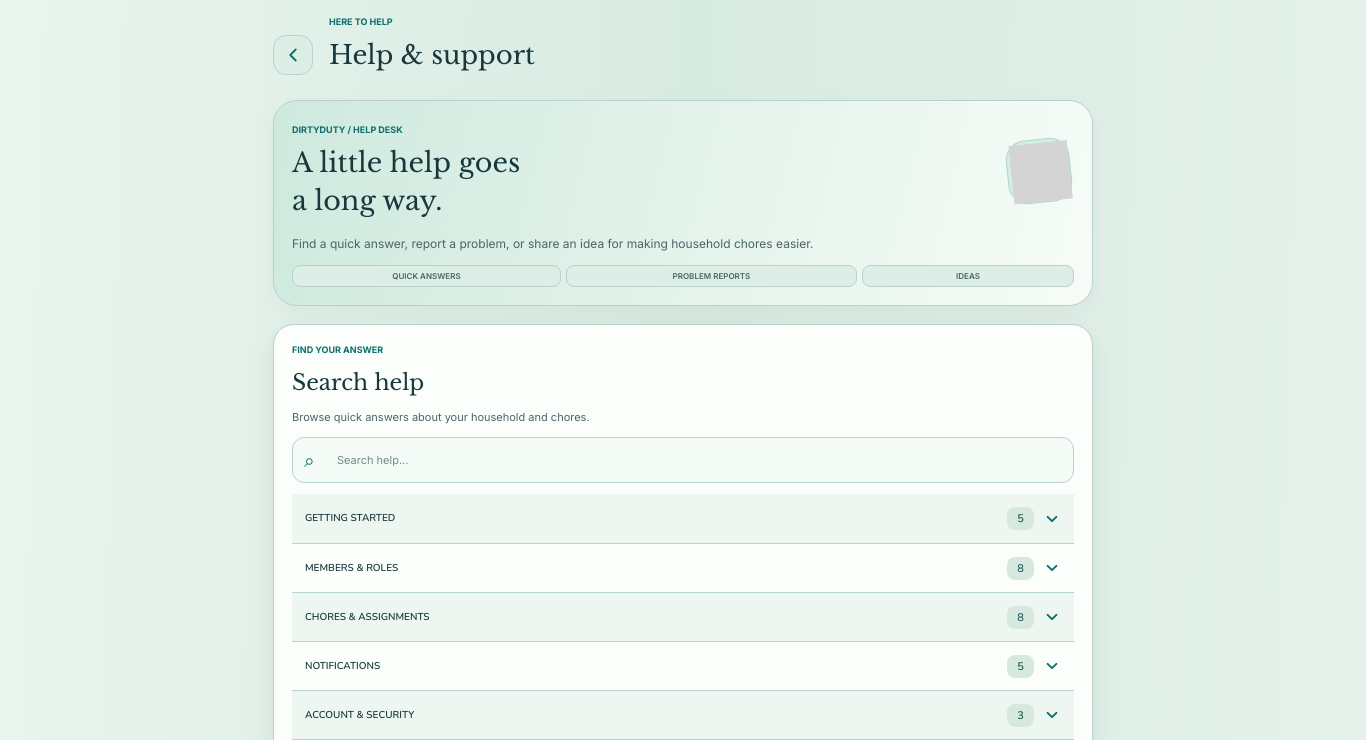
Test: help and support screen › automatically opens matching categories during search, hides others, and resets when cleared
In the search field named "Search help articles": (683, 460) 292,437 -> 1074,483, type "password"
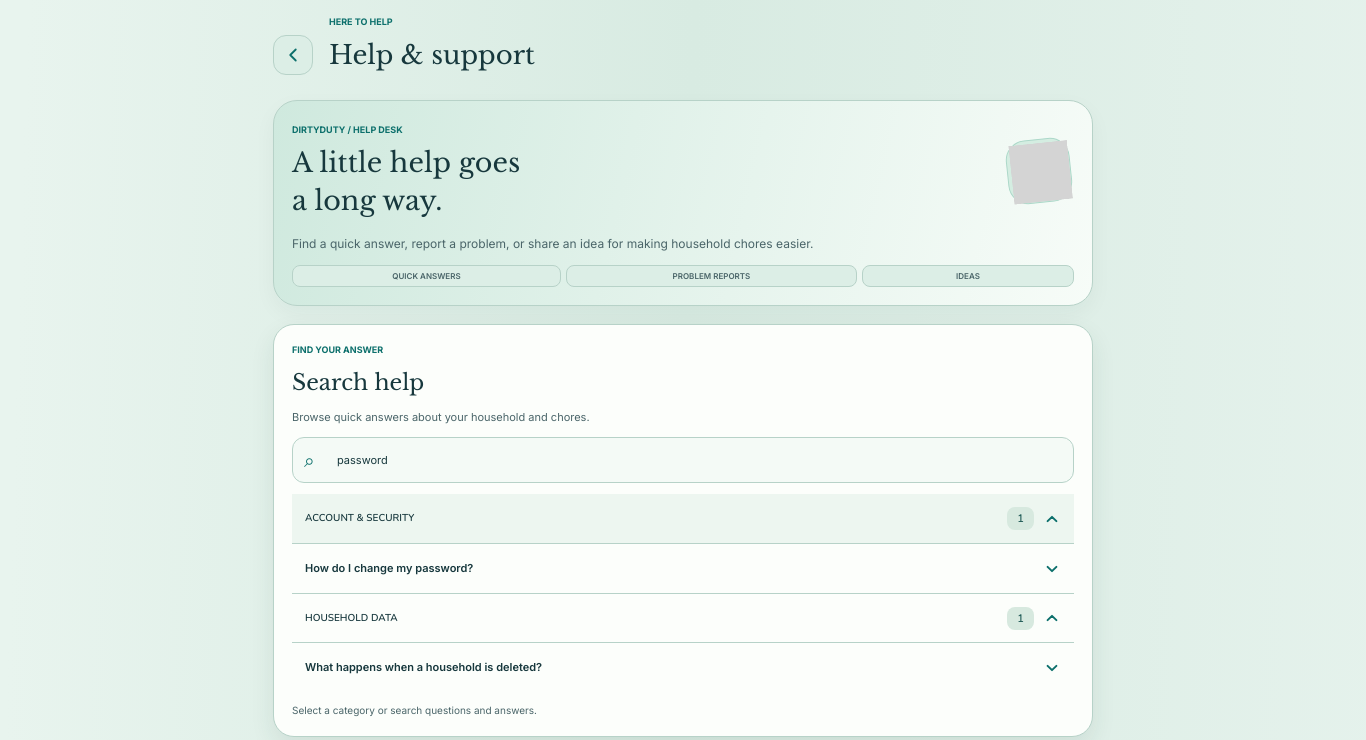
Expected: the button "Account & Security 1" is expanded, 292,494 -> 1074,543
Expected: the button "How do I change my password?" is shown, 292,544 -> 1074,593
Expected: the button "Getting Started" is gone
Replace the text in the search field named "Search help articles" with "ROUND-ROBIN": (683, 460) 292,437 -> 1074,483
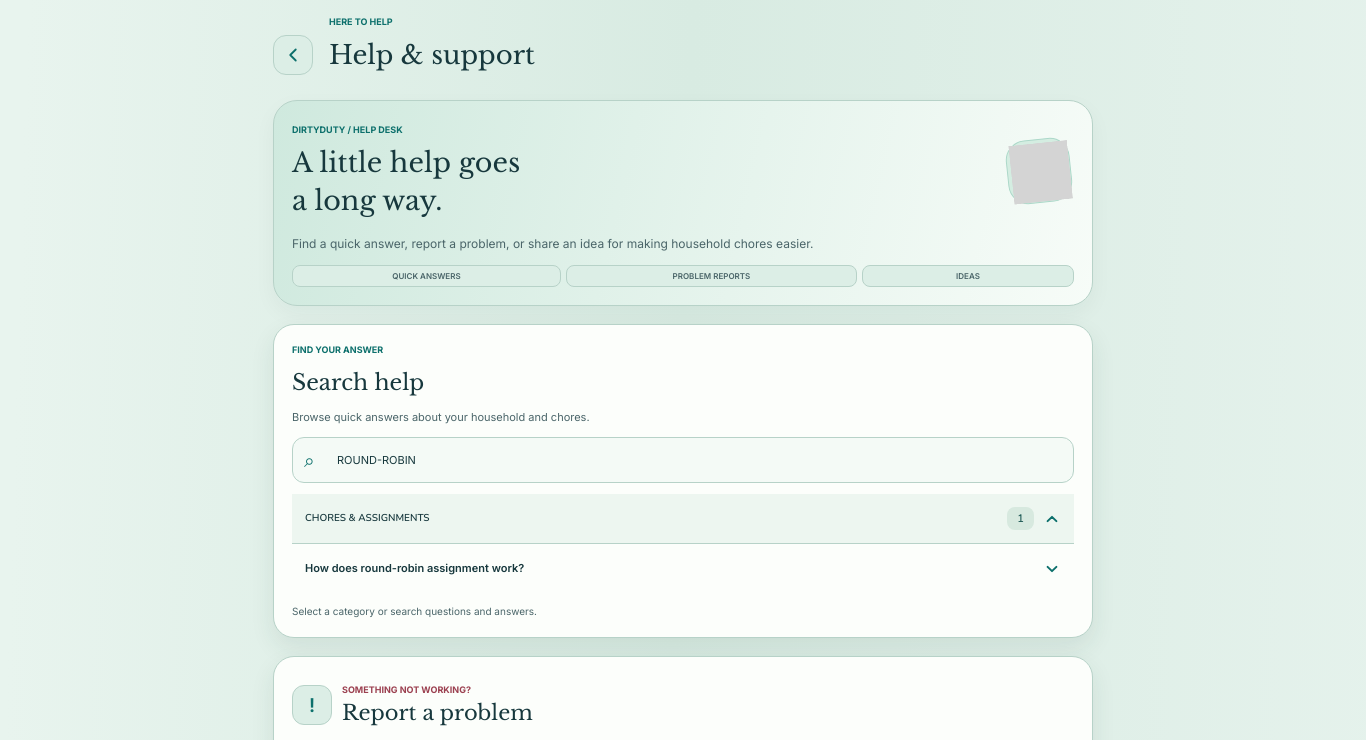
Expected: the button "How does round-robin assignment work?" is shown, 292,544 -> 1074,593
Expected: the button "Account & Security" is gone
Clear the search field named "Search help articles": (683, 460) 292,437 -> 1074,483
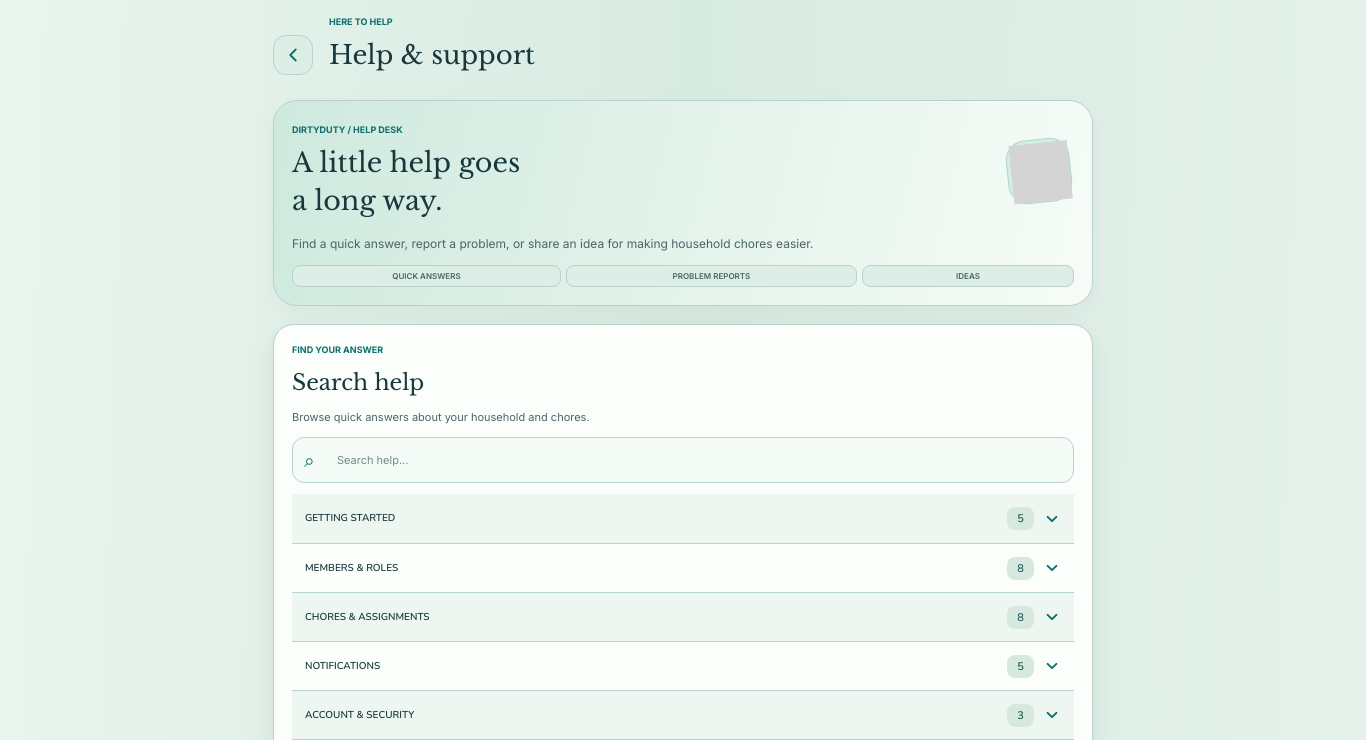
Expected: the button "How do I change my password?" is not shown
Expected: the button "Chores & Assignments 8" is collapsed, 292,592 -> 1074,641
In the search field named "Search help articles": (683, 460) 292,437 -> 1074,483, type "nothing matches this"
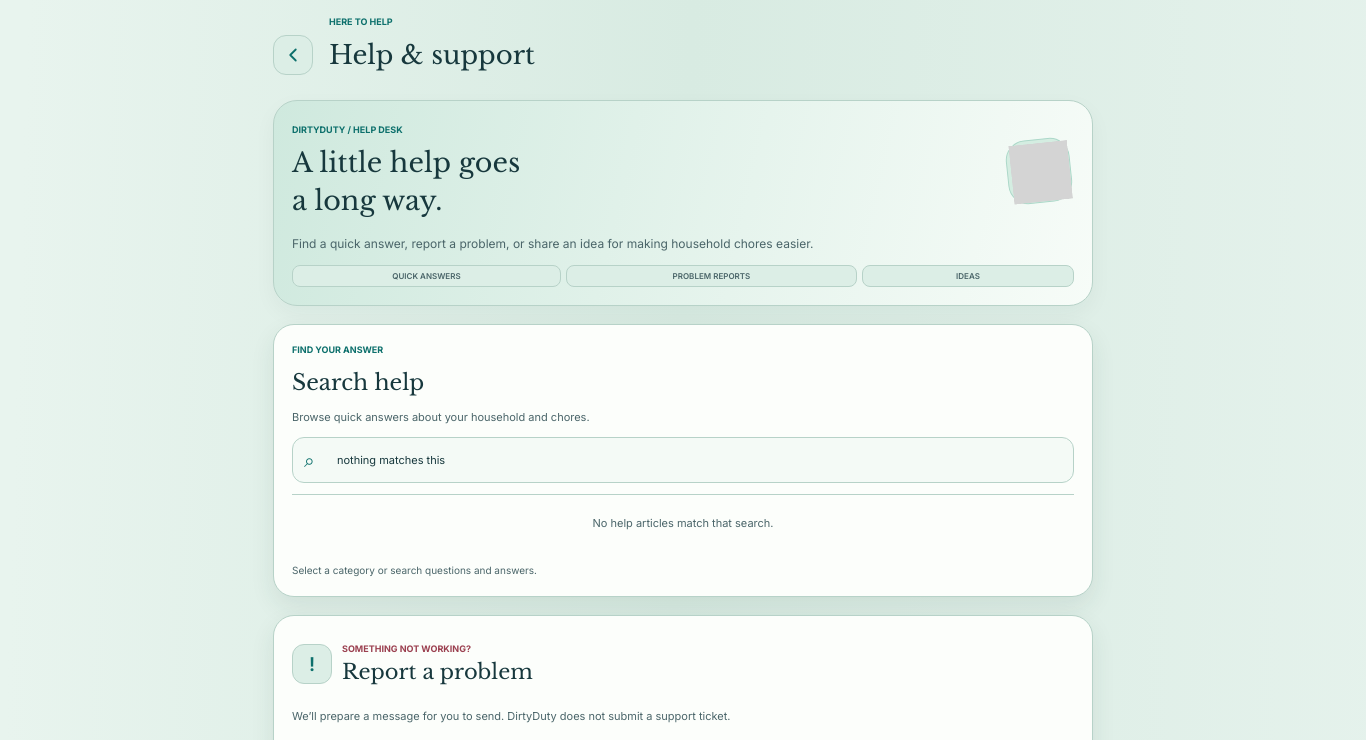
Expected: the text "No help articles match that search." is shown, 292,494 -> 1074,552
